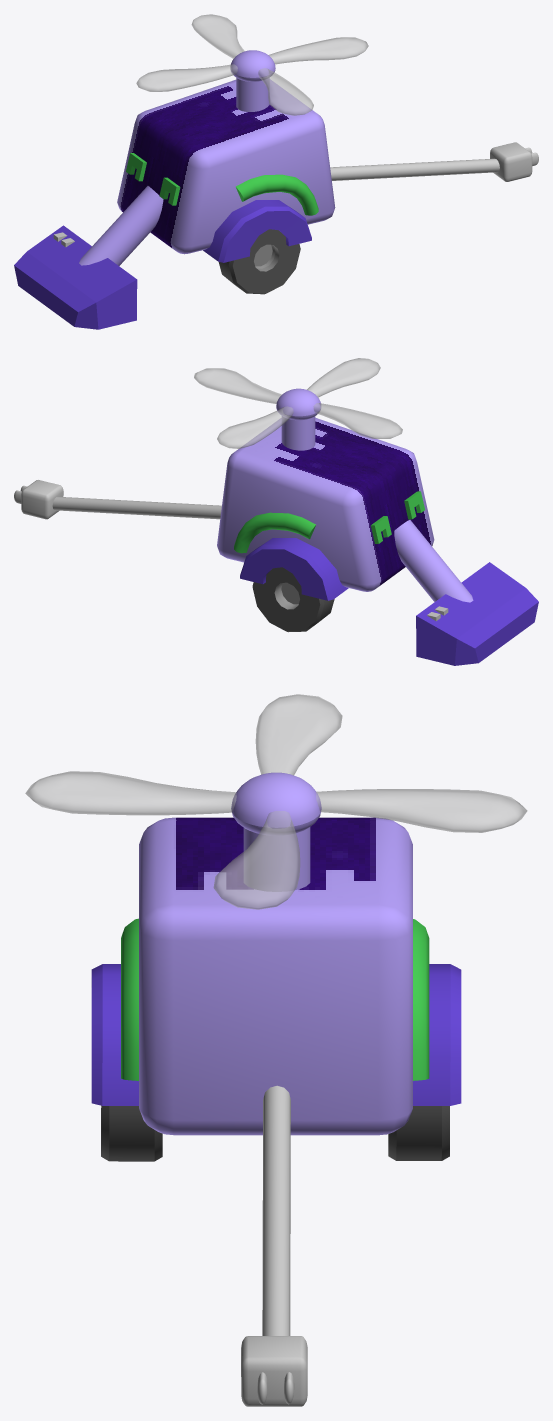
Rendered from soukabuto_0.FBX.
3 views of the same model, one above another, from view 1: azimuth 30°, elevation 25°; view 2: azimuth 150°, elevation 25°; view 3: azimuth 270°, elevation 25° (orthographic). The views are drawn at different scales.
Parts seen in each view (by area): view 1: body, Box001, taiyakaba, taiyaleft, Cylinder001, OilTank001, Box002, Box003, Torus001, Box004, Box005, ChamferBox002 (+3 smaller); view 2: body, Box001, taiyakaba, taiyaright, Cylinder001, OilTank001, Box002, Box003, Box005, Torus002, Box004, ChamferBox002 (+3 smaller); view 3: body, taiyakaba (×2), OilTank001, Box004, Box005, Box003, Box002, ChamferBox002, Sphere001, Cylinder002, taiyaleft, taiyaright (+2 smaller).
Boxes of the visible parts, x1=… form: body: x1=117, y1=79, x2=335, y2=254; Box001: x1=14, y1=225, x2=137, y2=329; taiyakaba: x1=203, y1=200, x2=311, y2=262; taiyaleft: x1=218, y1=229, x2=300, y2=294; Cylinder001: x1=79, y1=186, x2=163, y2=265; OilTank001: x1=330, y1=158, x2=499, y2=180; Box002: x1=136, y1=64, x2=237, y2=91; Box003: x1=269, y1=37, x2=368, y2=64; Torus001: x1=235, y1=174, x2=318, y2=215; Box004: x1=258, y1=68, x2=313, y2=115; Box005: x1=191, y1=14, x2=244, y2=58; ChamferBox002: x1=490, y1=142, x2=532, y2=181; body: x1=217, y1=417, x2=434, y2=591; Box001: x1=416, y1=562, x2=538, y2=665; taiyakaba: x1=240, y1=538, x2=348, y2=600; taiyaright: x1=252, y1=567, x2=334, y2=632; Cylinder001: x1=394, y1=520, x2=473, y2=602; OilTank001: x1=52, y1=496, x2=221, y2=519; Box002: x1=313, y1=403, x2=402, y2=438; Box003: x1=194, y1=368, x2=281, y2=403; Box005: x1=217, y1=406, x2=293, y2=448; Torus002: x1=234, y1=512, x2=315, y2=553; Box004: x1=307, y1=358, x2=380, y2=397; ChamferBox002: x1=21, y1=480, x2=63, y2=519; body: x1=139, y1=817, x2=412, y2=1135; taiyakaba (×2): x1=91, y1=964, x2=461, y2=1105; OilTank001: x1=262, y1=1085, x2=290, y2=1335; Box004: x1=25, y1=771, x2=236, y2=815; Box005: x1=316, y1=789, x2=527, y2=832; Box003: x1=213, y1=811, x2=300, y2=909; Box002: x1=255, y1=694, x2=342, y2=775; ChamferBox002: x1=241, y1=1336, x2=307, y2=1406; Sphere001: x1=231, y1=772, x2=321, y2=827; Cylinder002: x1=243, y1=827, x2=310, y2=891; taiyaleft: x1=101, y1=1105, x2=162, y2=1161; taiyaright: x1=388, y1=1106, x2=449, y2=1160.
Size of the model in its own units: 125 by 55.74 by 49.69.
Materials: 10 (10 with a texture image).
